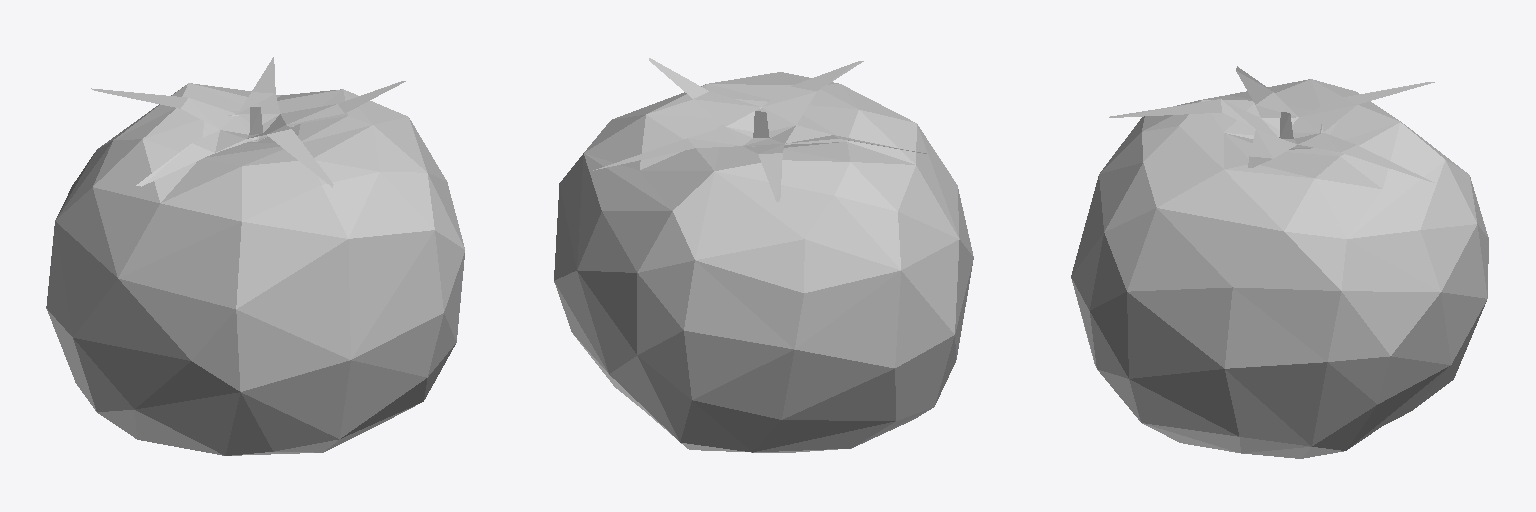
The model's file is tomato.obj.
3 renders of one model, left to right at view 1: azimuth 30°, elevation 25°; view 2: azimuth 150°, elevation 25°; view 3: azimuth 270°, elevation 25°, orthographic.
Visible parts, largest first — view 1: tomato_Tomato_baked_0; view 2: tomato_Tomato_baked_0; view 3: tomato_Tomato_baked_0.
Part boxes in pixels (left/top/right/bottom): tomato_Tomato_baked_0: left=46, top=57, right=464, bottom=455; tomato_Tomato_baked_0: left=554, top=58, right=973, bottom=452; tomato_Tomato_baked_0: left=1071, top=66, right=1488, bottom=458.
Bounding box in the file's own units: 0.0771 × 0.0612 × 0.0754.